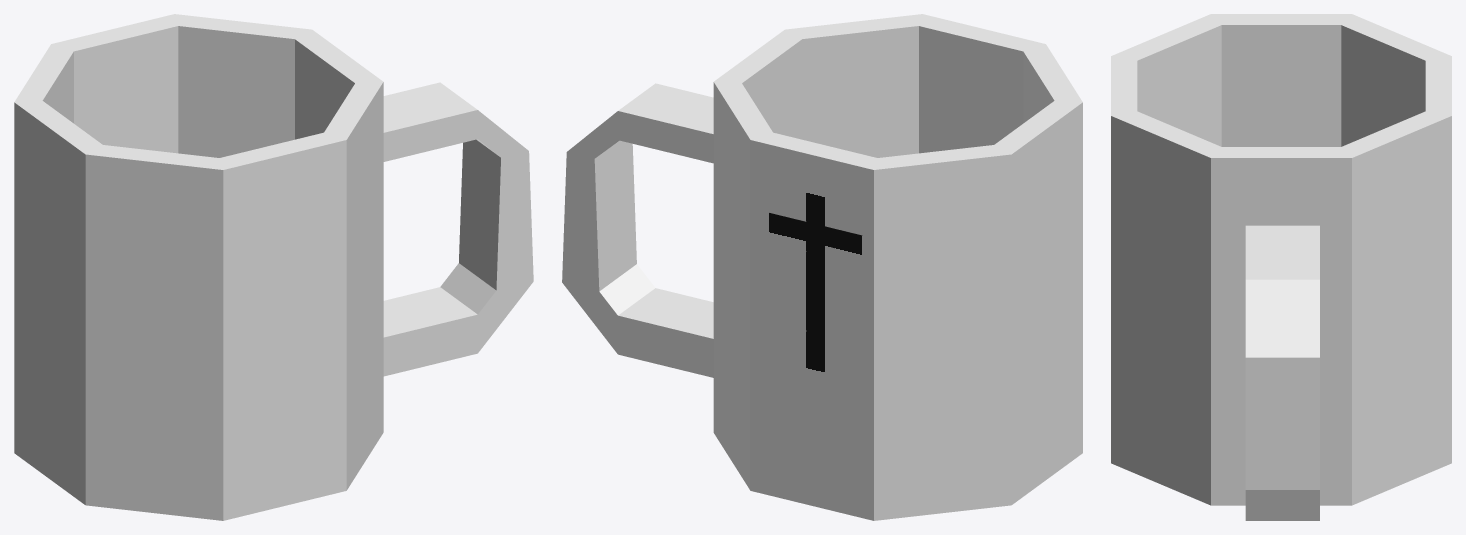
File: CIS_mug.gltf
3 views of the same model, side by side, from view 1: azimuth 30°, elevation 25°; view 2: azimuth 150°, elevation 25°; view 3: azimuth 270°, elevation 25° (orthographic).
Parts seen in each view (by area): view 1: cylinder; view 2: cylinder; view 3: cylinder.
Boxes of the visible parts, box(x1,y1,x2,y2) form: cylinder: box(14, 14, 533, 520); cylinder: box(562, 14, 1082, 520); cylinder: box(1111, 14, 1451, 520).
Size of the model in its own units: 1.56 by 1.12 by 1.
Materials: 1 (1 with a texture image).
